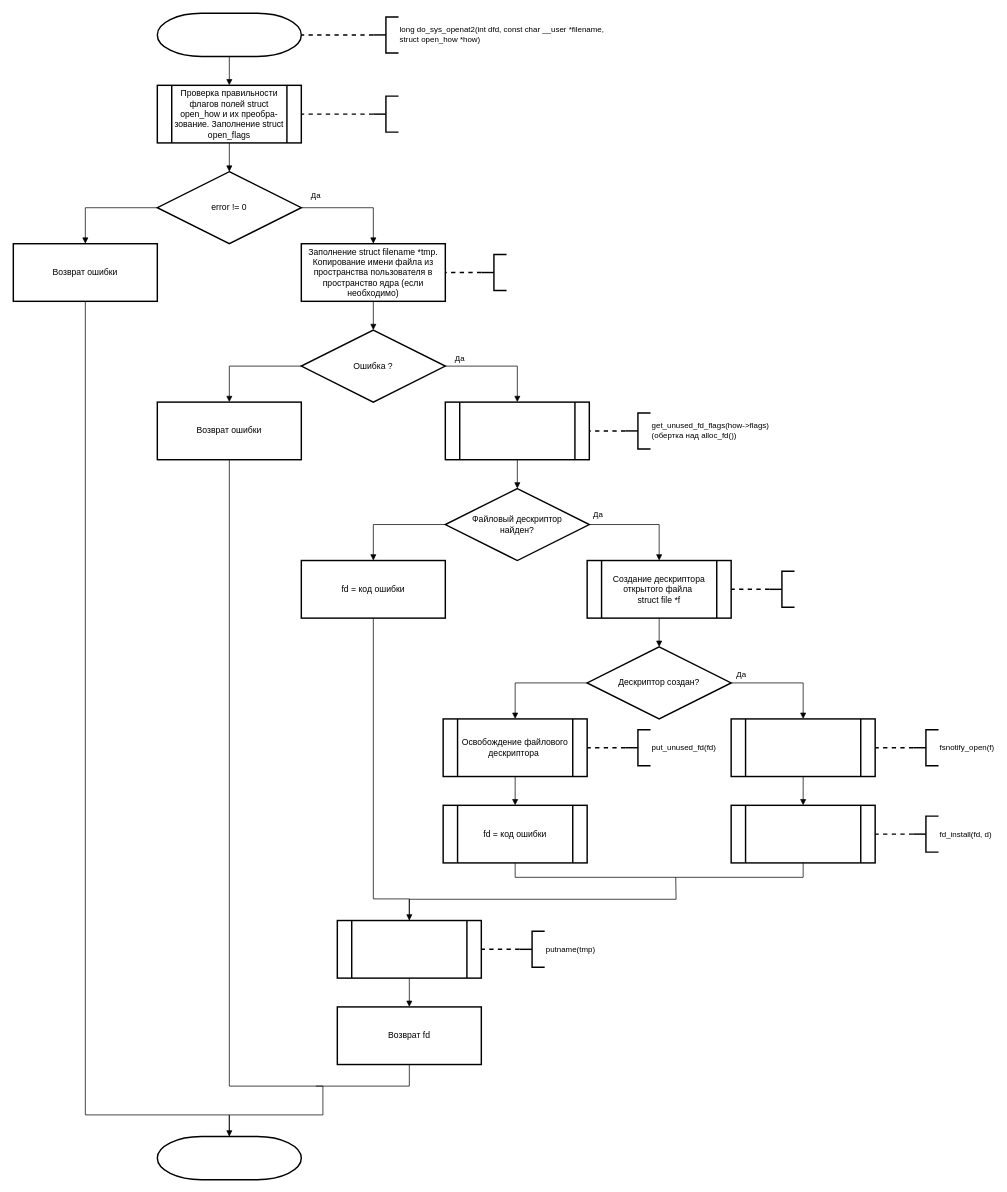
The diagram is 1007 pixels wide and 1192 high, and some of its shapes have lost their labels. The shapes that lost their labels are listed below. From the top down, each one's centre as x and y in pixels, then its label:
At [229,34]: "Начало".
At [385,113]: "build_open_flags(how, &op)".
At [493,272]: "get_name(filename)".
At [517,430]: "Поиск свободного файлового дескриптора fd; отметить его как занятый".
At [781,589]: "do_filp_open(dfd, tmp, &op)".
At [803,747]: "Уведомление файловой системы об открытии файла".
At [803,833]: "Запись дескриптора открытого файла в таблицу открытых файлов процесса".
At [409,948]: "Освобождение памяти, занимаемой struct filename".
At [229,1157]: "Конец".
